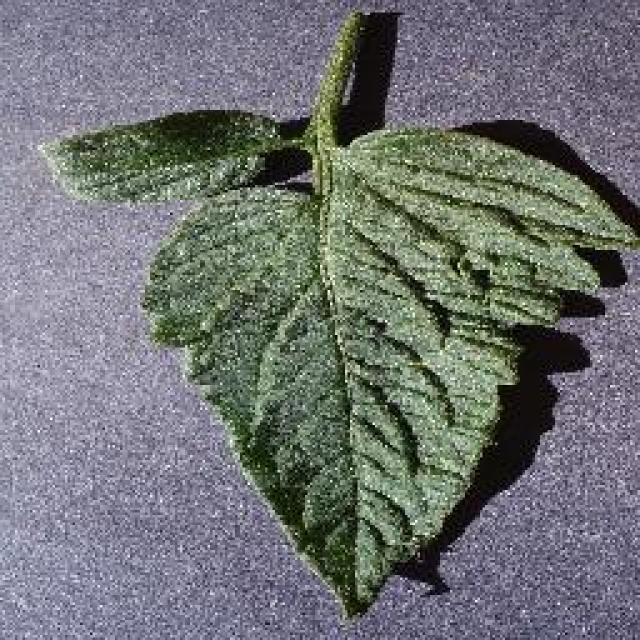Tomato___healthy: (25, 8, 638, 628)
